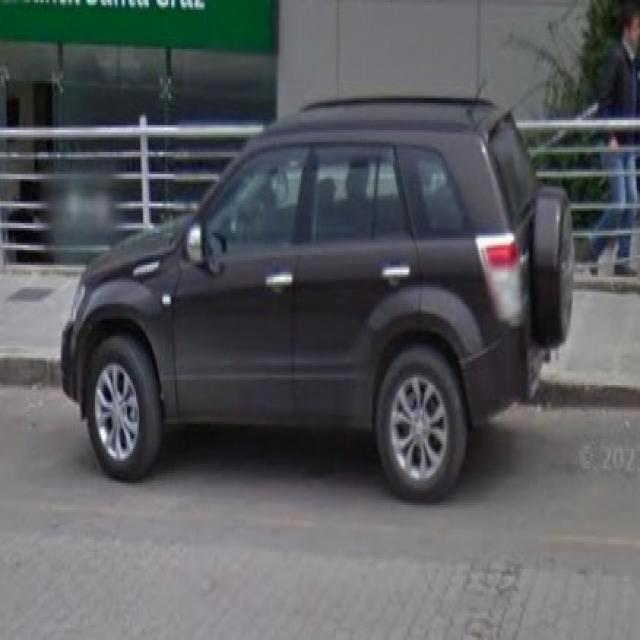Car: (68, 105, 570, 492)
